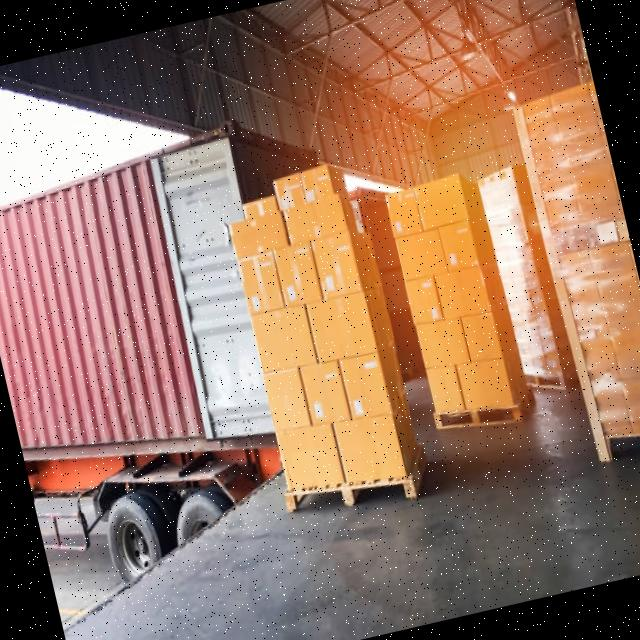Wooden-Pallets: (285, 443, 432, 518), (429, 407, 524, 434)
